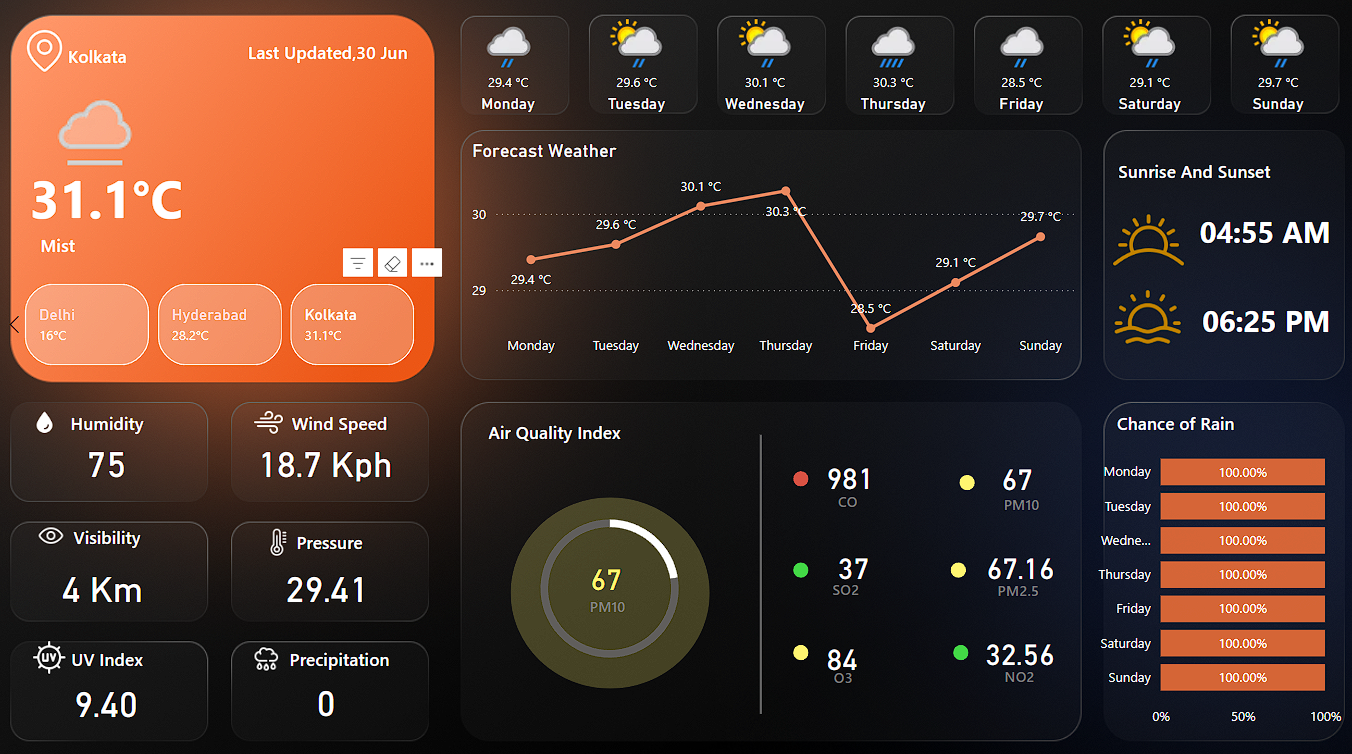

Layout of this report page (visuals, bound fields, positions):
{"tool":"powerbi","page":{"name":"Page 1","canvas":[1280,720],"ordinal":0},"visuals":[{"type":"shape","box":[484.8,465.5,183.3,176.1],"z":0},{"type":"advancedSlicerVisual","fields":{"Values":["Location.location.name"]},"box":[14.1,264.1,409.4,85.9],"z":1000},{"type":"shape","box":[0,129.7,226.6,118.8],"z":2000},{"type":"shape","box":[53.1,212.3,360.6,41],"z":3000},{"type":"shape","box":[243.8,35.9,167.2,40.6],"z":4000},{"type":"shape","box":[78.1,39.1,143.8,40.6],"z":5000},{"type":"image","box":[31.2,31.2,51.6,48.4],"z":6000},{"type":"cardVisual","fields":{"Data":["Min(Current.current.condition.icon)"]},"box":[34.6,59.2,125.5,118.3],"z":7000},{"type":"lineChart","title":"Forecast Weather","fields":{"Y":["Sum(Forecast_dayy.forecast.forecastday.day.avgtemp_c)"],"Category":["Forecast_dayy.Day_name"]},"box":[444.4,137.1,564.1,207.8],"z":8000},{"type":"advancedSlicerVisual","fields":{"Values":["Forecast_dayy.Day_name"]},"box":[423.4,10.9,829.7,118.8],"z":9000},{"type":"shape","box":[1099.4,180.3,160.1,79.4],"z":10000},{"type":"shape","box":[1080.6,259.7,199.1,85.1],"z":11000},{"type":"hundredPercentStackedBarChart","fields":{"Category":["Forecast_dayy.Day_name"],"Y":["Sum(Forecast_dayy.forecast.forecastday.day.daily_chance_of_rain)"]},"box":[1007.5,405,246.2,281.2],"z":12000},{"type":"shape","box":[39,378,150,37.5],"z":13000},{"type":"shape","box":[865.7,453,178.9,37.5],"z":14000},{"type":"shape","box":[39,595.9,150,37.5],"z":15000},{"type":"shape","box":[39,483.3,150,37.5],"z":16000},{"type":"shape","box":[252.5,595.9,150,37.5],"z":17000},{"type":"shape","box":[243.8,487.7,150,37.5],"z":18000},{"type":"shape","box":[252.5,378,150,37.5],"z":19000},{"type":"image","box":[1021.5,180.3,99.6,96.7],"z":20000},{"type":"image","box":[41.8,378,30.3,37.5],"z":21000},{"type":"image","box":[43.3,483.3,37.5,36.1],"z":22000},{"type":"image","box":[34.6,591.5,53.4,41.8],"z":23000},{"type":"image","box":[243.8,369.3,37.5,54.8],"z":24000},{"type":"image","box":[252.5,489.1,37.5,34.6],"z":25000},{"type":"image","box":[242.4,595.9,36.1,37.5],"z":26000},{"type":"image","box":[1031.6,264,80.8,70.7],"z":27000},{"type":"shape","box":[1031.6,142.8,165.9,46.2],"z":28000},{"type":"cardVisual","fields":{"Data":["Sum(Current.current.humidity)"]},"box":[77.9,392.4,99.6,63.5],"z":29000},{"type":"cardVisual","fields":{"Data":["Sum(Current.current.uv)"]},"box":[66.4,613.2,111.1,64.9],"z":30000},{"type":"cardVisual","fields":{"Data":["Sum(Current.current.precip_in)"]},"box":[290,611.7,88,64.9],"z":31000},{"type":"cardVisual","fields":{"Data":["_Measures.Visibility"]},"box":[54.8,506.4,135.6,64.9],"z":32000},{"type":"cardVisual","fields":{"Data":["Sum(Current.current.pressure_in)"]},"box":[261.1,506.4,118.3,64.9],"z":33000},{"type":"cardVisual","fields":{"Data":["_Measures.Wind_speed"]},"box":[235.2,392.4,184.7,64.9],"z":34000},{"type":"cardVisual","fields":{"Data":["Sum(Current.current.air_quality.pm10)"]},"box":[919,409.7,89.5,56.3],"z":35000},{"type":"shape","box":[718.5,530.9,150,37.5],"z":36000},{"type":"shape","box":[715.6,613.2,150,37.5],"z":37000},{"type":"shape","box":[878.6,611.7,150,37.5],"z":38000},{"type":"shape","box":[725.7,450.1,139.9,37.5],"z":39000},{"type":"shape","box":[877.2,532.4,150,37.5],"z":40000},{"type":"cardVisual","fields":{"Data":["Sum(Current.current.air_quality.so2)"]},"box":[769,490.5,95.2,67.8],"z":41000},{"type":"cardVisual","fields":{"Data":["Sum(Current.current.air_quality.pm2_5)"]},"box":[906.1,490.5,132.7,67.8],"z":42000},{"type":"cardVisual","fields":{"Data":["Sum(Current.current.air_quality.co)"]},"box":[758.9,408.3,95.2,67.8],"z":43000},{"type":"cardVisual","fields":{"Data":["Sum(Current.current.air_quality.no2)"]},"box":[904.6,569.9,135.6,67.8],"z":44000},{"type":"cardVisual","fields":{"Data":["Sum(Current.current.air_quality.o3)"]},"box":[758.9,574.2,95.2,67.8],"z":45000},{"type":"shape","box":[744.5,441.5,14.4,14.4],"z":46000},{"type":"shape","box":[744.5,525.2,14.4,14.4],"z":47000},{"type":"shape","box":[744.5,601.6,14.4,14.4],"z":48000},{"type":"shape","box":[897.4,444.4,14.4,14.4],"z":49000},{"type":"shape","box":[891.6,601.6,14.4,14.4],"z":50000},{"type":"shape","box":[890.2,525.2,14.4,14.4],"z":51000},{"type":"shape","box":[450.1,386.7,150,37.5],"z":52000},{"type":"cardVisual","fields":{"Data":["Sum(Current.current.air_quality.pm10)"]},"box":[541.5,489.6,74.8,95.3],"z":53000},{"type":"donutChart","fields":{"Y":["Sum(Current.current.air_quality.pm10)","_Measures.Left_value_Pm10"]},"box":[492.1,446.2,168.8,207.4],"z":54000},{"type":"shape","box":[640.6,408.3,150,256.8],"z":55000},{"type":"shape","box":[1021.5,378,150,37.5],"z":56000},{"type":"shape","box":[484.8,547.5,178.5,37.4],"z":57000}]}

Visuals, with their boxes in screenshot pixels (x1, y1, x2, y2), scaled from the page's 1280x720 canvas onto the 1352x754 screenshot:
shape: [512,487,706,672]
advancedSlicerVisual - Location.location.name: [15,277,447,367]
shape: [0,136,239,260]
shape: [56,222,437,265]
shape: [258,38,434,80]
shape: [82,41,234,83]
image: [33,33,87,83]
cardVisual - Min(Current.current.condition.icon): [37,62,169,186]
"Forecast Weather" lineChart: [469,144,1065,361]
advancedSlicerVisual - Forecast_dayy.Day_name: [447,11,1324,136]
shape: [1161,189,1330,272]
shape: [1141,272,1351,361]
hundredPercentStackedBarChart - Forecast_dayy.Day_name x Sum(Forecast_dayy.forecast.forecastday.day.daily_chance_of_rain): [1064,424,1324,719]
shape: [41,396,200,435]
shape: [914,474,1103,514]
shape: [41,624,200,663]
shape: [41,506,200,545]
shape: [267,624,425,663]
shape: [258,511,416,550]
shape: [267,396,425,435]
image: [1079,189,1184,290]
image: [44,396,76,435]
image: [46,506,85,544]
image: [37,619,93,663]
image: [258,387,297,444]
image: [267,512,306,548]
image: [256,624,294,663]
image: [1090,276,1175,351]
shape: [1090,150,1265,198]
cardVisual - Sum(Current.current.humidity): [82,411,187,477]
cardVisual - Sum(Current.current.uv): [70,642,187,710]
cardVisual - Sum(Current.current.precip_in): [306,641,399,709]
cardVisual - _Measures.Visibility: [58,530,201,598]
cardVisual - Sum(Current.current.pressure_in): [276,530,401,598]
cardVisual - _Measures.Wind_speed: [248,411,444,479]
cardVisual - Sum(Current.current.air_quality.pm10): [971,429,1065,488]
shape: [759,556,917,595]
shape: [756,642,914,681]
shape: [928,641,1086,680]
shape: [767,471,914,511]
shape: [927,558,1085,597]
cardVisual - Sum(Current.current.air_quality.so2): [812,514,913,585]
cardVisual - Sum(Current.current.air_quality.pm2_5): [957,514,1097,585]
cardVisual - Sum(Current.current.air_quality.co): [802,428,902,499]
cardVisual - Sum(Current.current.air_quality.no2): [955,597,1099,668]
cardVisual - Sum(Current.current.air_quality.o3): [802,601,902,672]
shape: [786,462,802,477]
shape: [786,550,802,565]
shape: [786,630,802,645]
shape: [948,465,963,480]
shape: [942,630,957,645]
shape: [940,550,955,565]
shape: [475,405,634,444]
cardVisual - Sum(Current.current.air_quality.pm10): [572,513,651,613]
donutChart - Sum(Current.current.air_quality.pm10) x _Measures.Left_value_Pm10: [520,467,698,684]
shape: [677,428,835,697]
shape: [1079,396,1237,435]
shape: [512,573,701,613]
